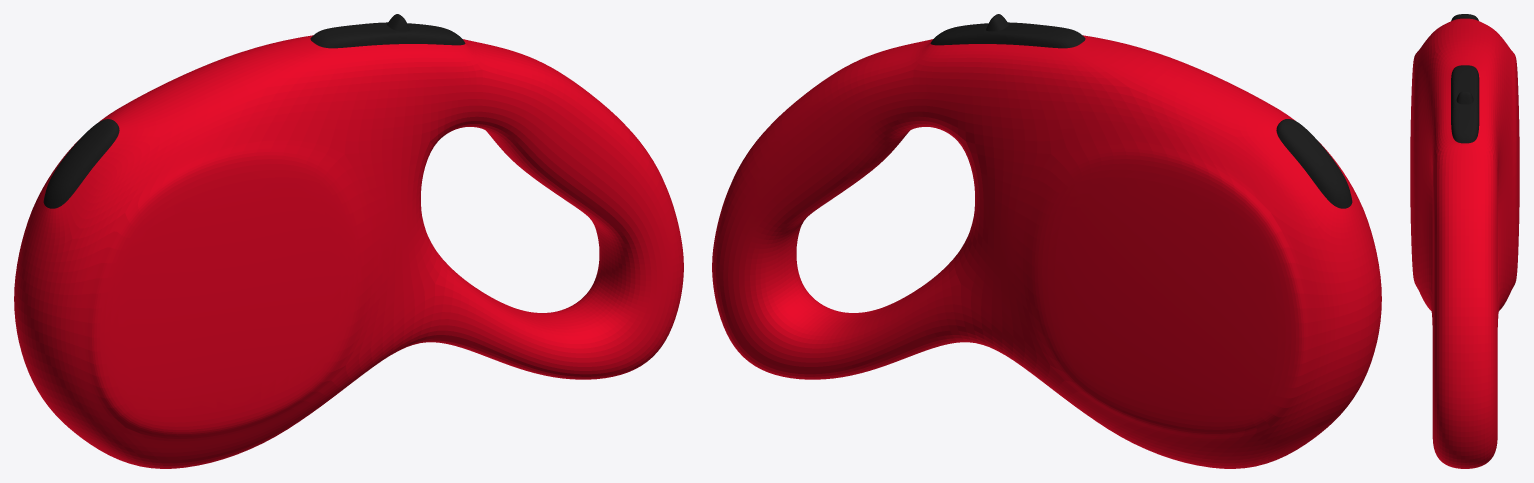
File: Leash.fbx
3 renders of one model, left to right at view 1: azimuth 30°, elevation 25°; view 2: azimuth 150°, elevation 25°; view 3: azimuth 270°, elevation 25°, orthographic. The views are drawn at different scales.
Parts seen in each view (by area): view 1: Plane; view 2: Plane; view 3: Plane.
Part boxes in pixels (left/top/right/bottom): Plane: left=14, top=14, right=683, bottom=468; Plane: left=712, top=14, right=1381, bottom=468; Plane: left=1410, top=14, right=1519, bottom=468.
Size of the model in its own units: 18.11 by 10.73 by 3.59.
